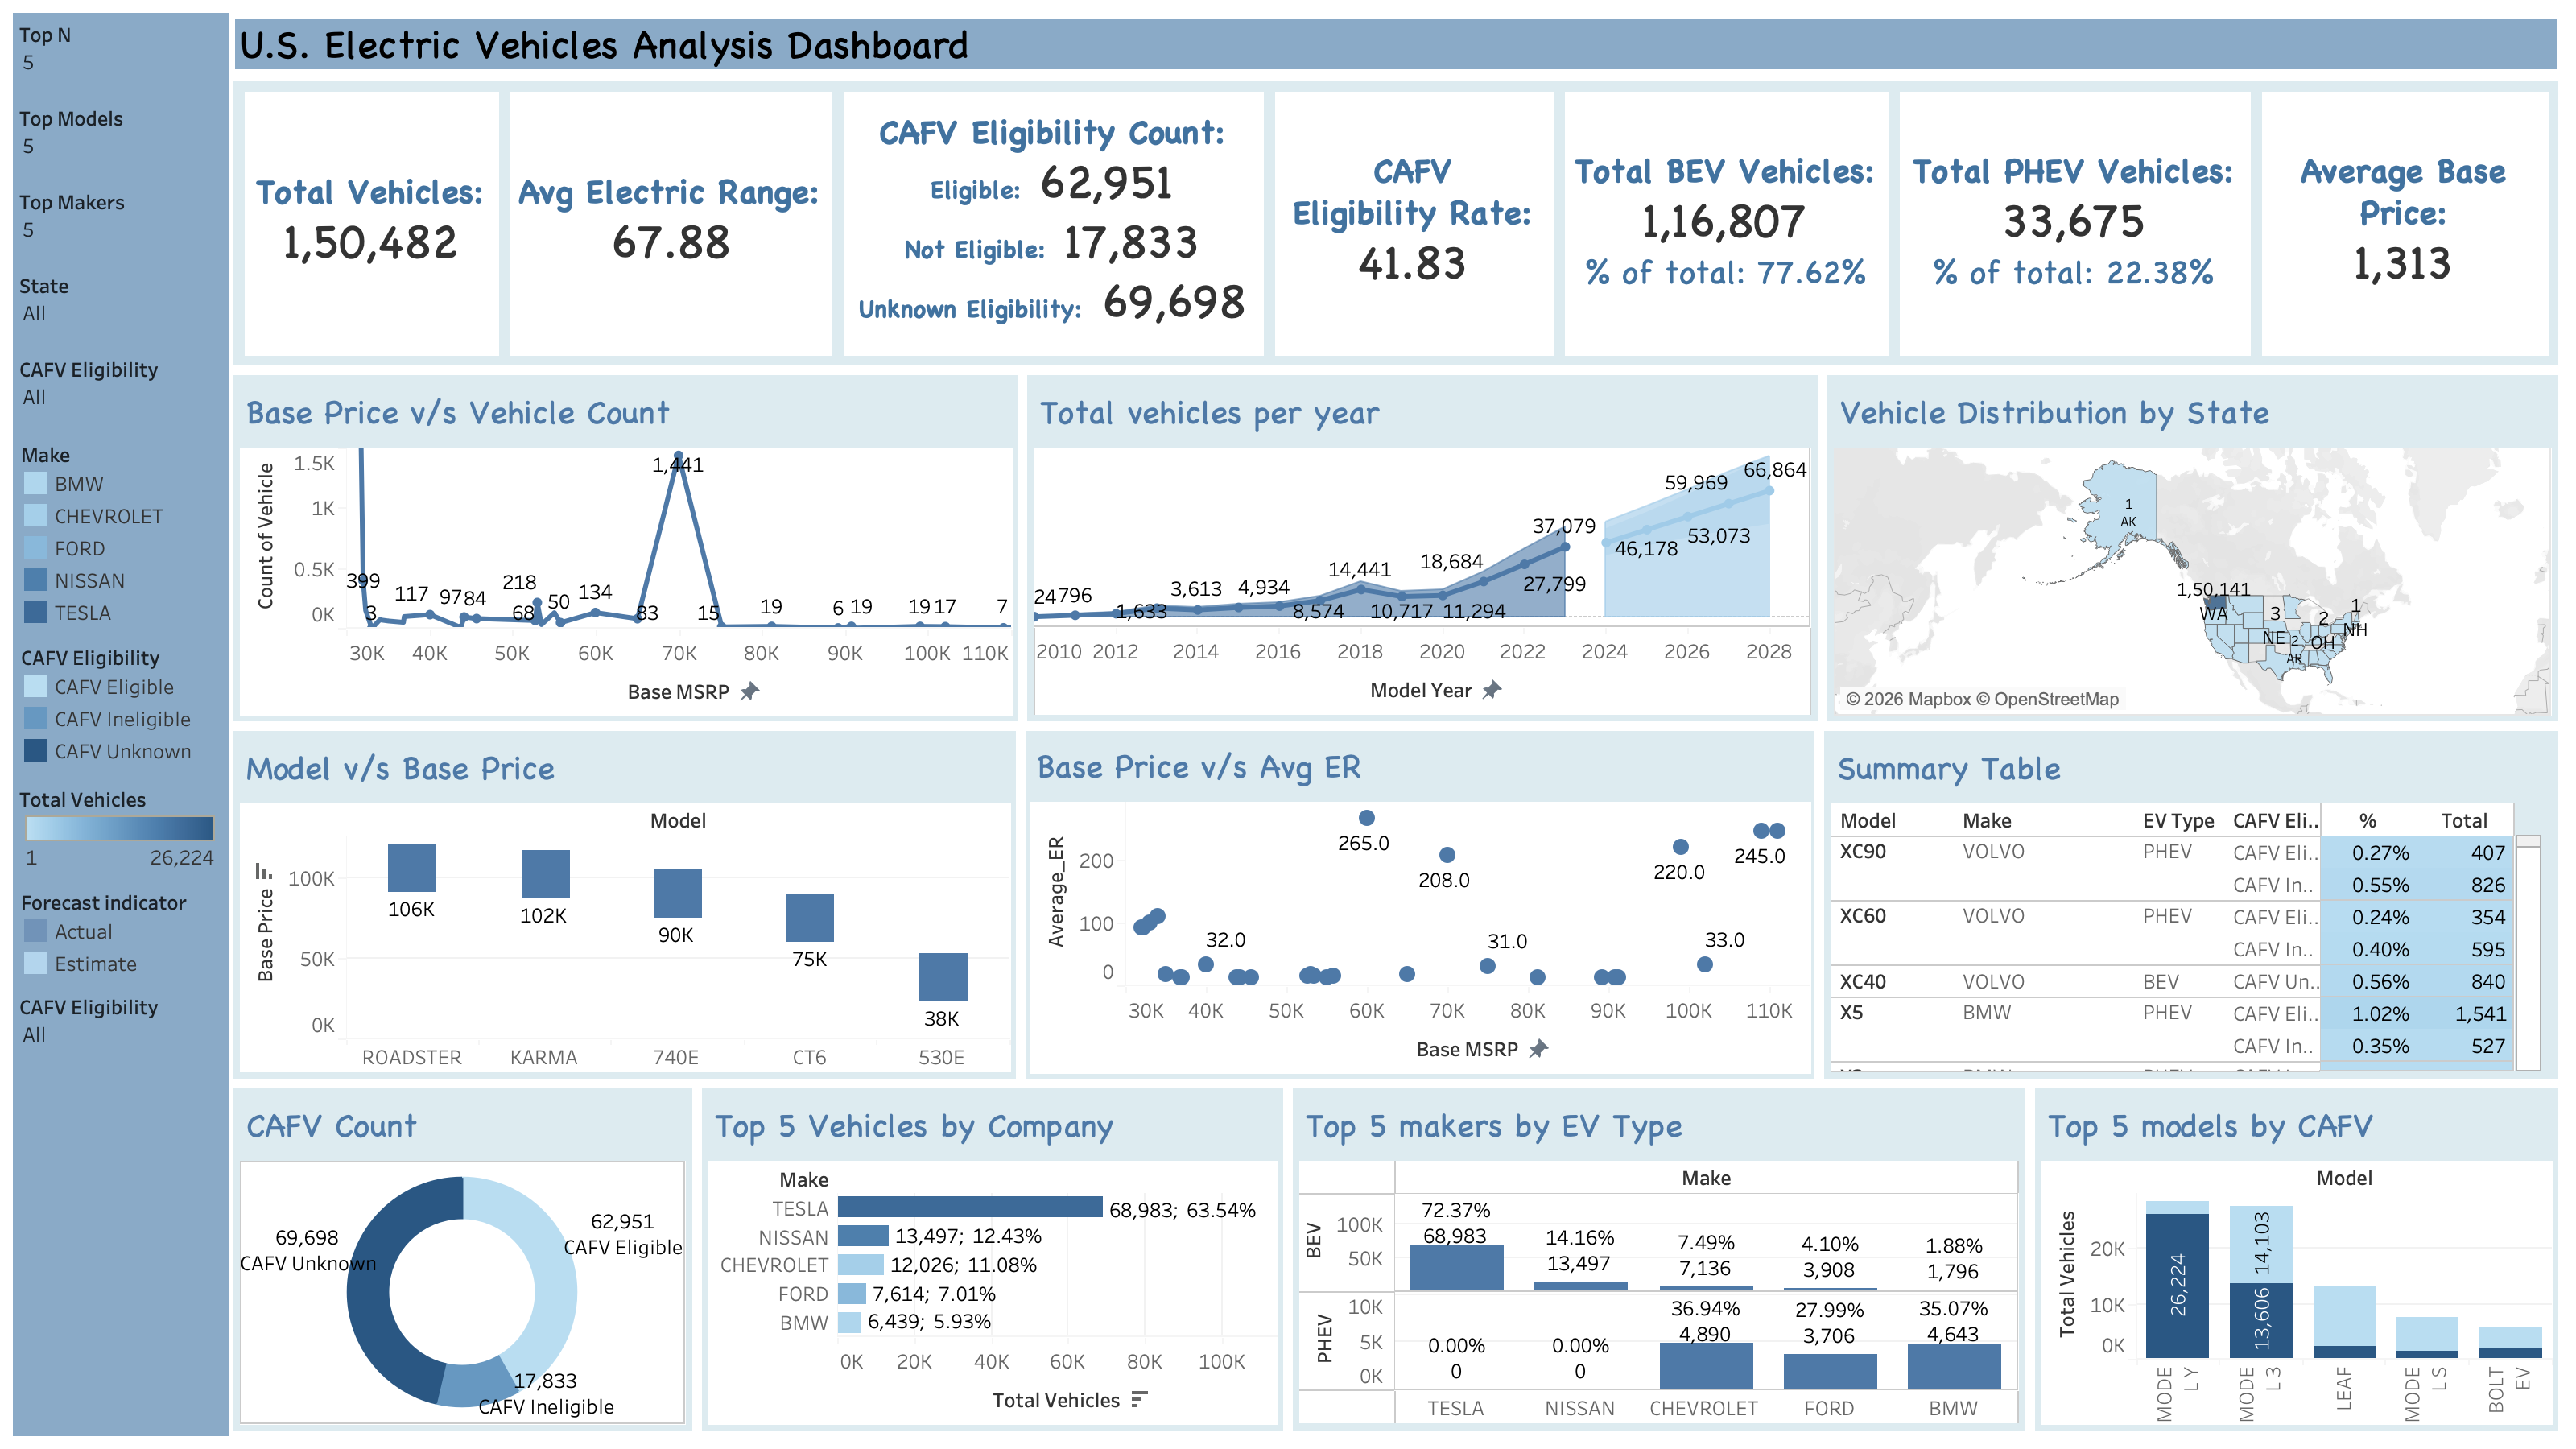

The dashboard page shown, as its layout file describes it:
{"tool":"tableau","page":{"name":"Dashboard 1","canvas":[1600,900],"ordinal":0},"visuals":[{"type":"parameter","param":"[Parameters].[Parameter 1]","box":[8,8,134,52]},{"type":"title","box":[142,8,1450,39]},{"type":"worksheet","title":"Total_Vehicles","mark":"Automatic","box":[148,53,165,171]},{"type":"worksheet","title":"Average_ER","mark":"Automatic","box":[313,53,207,171]},{"type":"worksheet","title":"CAFV Count","mark":"Automatic","box":[520,53,268,171]},{"type":"worksheet","title":"CAFV_Eligibility_Rate","mark":"Automatic","box":[788,53,180,171]},{"type":"worksheet","title":"Total_BEV_Vehicles","mark":"Automatic","box":[968,53,208,171]},{"type":"worksheet","title":"Total_PHEV_Vehicles","mark":"Automatic","box":[1176,53,225,171]},{"type":"worksheet","title":"Base Price","mark":"Automatic","box":[1401,53,185,171]},{"type":"parameter","param":"[Parameters].[Parameter 2]","box":[8,60,134,52]},{"type":"parameter","param":"[Parameters].[Parameter 3]","box":[8,112,134,52]},{"type":"filter","title":"Chart 1","param":"[federated.0vhbka11dbkzm214pmslx1tuxs3k].[none:State:nk]","box":[8,164,134,52]},{"type":"filter","title":"Chart 6","param":"[federated.0vhbka11dbkzm214pmslx1tuxs3k].[none:Clean Alternative Fuel Vehicle (C","box":[8,216,134,52]},{"type":"worksheet","title":"Chart 5","mark":"Line","rows":["DOL Vehicle ID"],"cols":["Base MSRP"],"box":[145,232.7,487,215.7]},{"type":"worksheet","title":"Chart 2","mark":"Area","rows":["Calculation_1115907593517821952","Calculation_1115907593517821952"],"cols":["Model Year"],"box":[638,232.7,491,215.7]},{"type":"worksheet","title":"Chart 1","mark":"Multipolygon","box":[1135,232.7,454,215.7]},{"type":"legend","title":"Chart 4","param":"[federated.0vhbka11dbkzm214pmslx1tuxs3k].[none:Make:nk]","box":[8,268,134,126]},{"type":"legend","title":"Chart 3","param":"[federated.0vhbka11dbkzm214pmslx1tuxs3k].[none:Clean Alternative Fuel Vehicle (C","box":[8,394,134,86]},{"type":"worksheet","title":"Chart 9","mark":"Square","rows":["Average_ER (copy)_1200913036606779392"],"cols":["Model"],"box":[145,454.3,486.4,215.7]},{"type":"worksheet","title":"Chart 8","mark":"Circle","rows":["Total Vehicles (copy)_1174454388747128832"],"cols":["Base MSRP"],"box":[637.5,454.3,489.5,215.7]},{"type":"worksheet","title":"Table","mark":"Square","rows":["Model","Make","Electric Vehicle Type","Clean Alternative Fuel Vehicle (CAFV) Eligibility"],"box":[1133,454.3,456,215.7]},{"type":"legend","title":"Table","param":"[federated.0vhbka11dbkzm214pmslx1tuxs3k].[usr:Calculation_1115907593517821952:qk","box":[8,480,134,65]},{"type":"legend","title":"Chart 2","param":"[federated.0vhbka11dbkzm214pmslx1tuxs3k].[none:Forecast Indicator:nk]","box":[8,545,134,66]},{"type":"filter","title":"Chart 3","param":"[federated.0vhbka11dbkzm214pmslx1tuxs3k].[none:Clean Alternative Fuel Vehicle (C","box":[8,611,134,52]},{"type":"worksheet","title":"Chart 3","mark":"Pie","rows":["Calculation_1077415892922331137","Calculation_1077415892923539459"],"box":[145,676,285,213]},{"type":"worksheet","title":"Chart 4","mark":"Automatic","rows":["Make"],"cols":["Calculation_1115907593517821952"],"box":[436,676,361,213]},{"type":"worksheet","title":"Chart 7","mark":"Bar","rows":["Average_ER (copy)_1200913036607229953","Total BEV Vehicles (copy)_1200913036608229378"],"cols":["Make"],"box":[803,676,454.6,213]},{"type":"worksheet","title":"Chart 6","mark":"Bar","rows":["Calculation_1115907593517821952"],"cols":["Model"],"box":[1263.6,676,325.4,213]}]}

Visuals, with their boxes in screenshot pixels (x1, y1, x2, y2), scaled from the page's 1600x900 canvas onto the 2576x1449 screenshot:
parameter: [13, 13, 229, 97]
title: [229, 13, 2563, 76]
"Total_Vehicles" worksheet: [238, 85, 504, 361]
"Average_ER" worksheet: [504, 85, 837, 361]
"CAFV Count" worksheet: [837, 85, 1269, 361]
"CAFV_Eligibility_Rate" worksheet: [1269, 85, 1558, 361]
"Total_BEV_Vehicles" worksheet: [1558, 85, 1893, 361]
"Total_PHEV_Vehicles" worksheet: [1893, 85, 2256, 361]
"Base Price" worksheet: [2256, 85, 2553, 361]
parameter: [13, 97, 229, 180]
parameter: [13, 180, 229, 264]
"Chart 1" filter: [13, 264, 229, 348]
"Chart 6" filter: [13, 348, 229, 431]
"Chart 5" worksheet (Line marks): [233, 374, 1018, 722]
"Chart 2" worksheet (Area marks): [1027, 374, 1818, 722]
"Chart 1" worksheet (Multipolygon marks): [1827, 374, 2558, 722]
"Chart 4" legend: [13, 431, 229, 634]
"Chart 3" legend: [13, 634, 229, 773]
"Chart 9" worksheet (Square marks): [233, 732, 1017, 1079]
"Chart 8" worksheet (Circle marks): [1026, 732, 1814, 1079]
"Table" worksheet (Square marks): [1824, 732, 2558, 1079]
"Table" legend: [13, 773, 229, 877]
"Chart 2" legend: [13, 877, 229, 984]
"Chart 3" filter: [13, 984, 229, 1067]
"Chart 3" worksheet (Pie marks): [233, 1088, 692, 1431]
"Chart 4" worksheet: [702, 1088, 1283, 1431]
"Chart 7" worksheet (Bar marks): [1293, 1088, 2025, 1431]
"Chart 6" worksheet (Bar marks): [2034, 1088, 2558, 1431]
